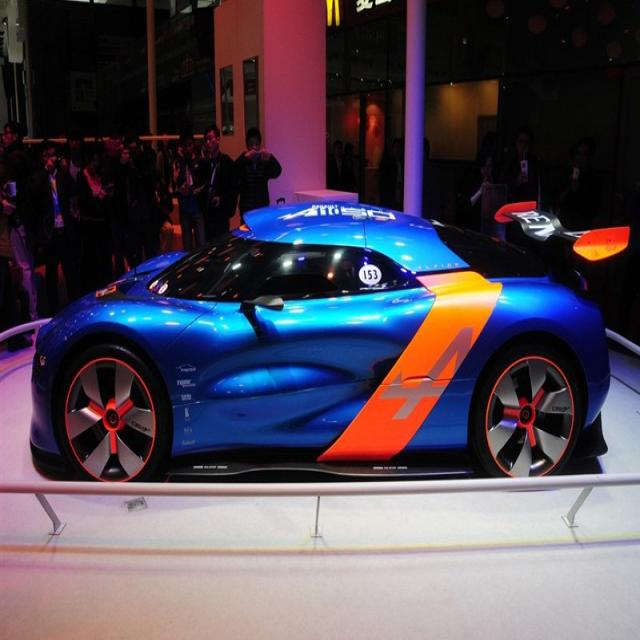back_glass: (437, 221, 530, 291)
front_left_side_door: (175, 236, 382, 460)
front_left_side_light: (30, 335, 48, 374)
wheel: (480, 344, 578, 480), (63, 352, 158, 481)
